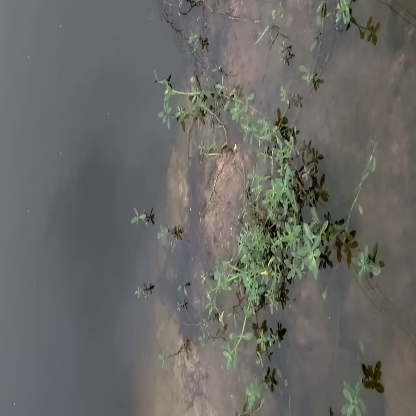grass: (227, 142, 361, 332)
